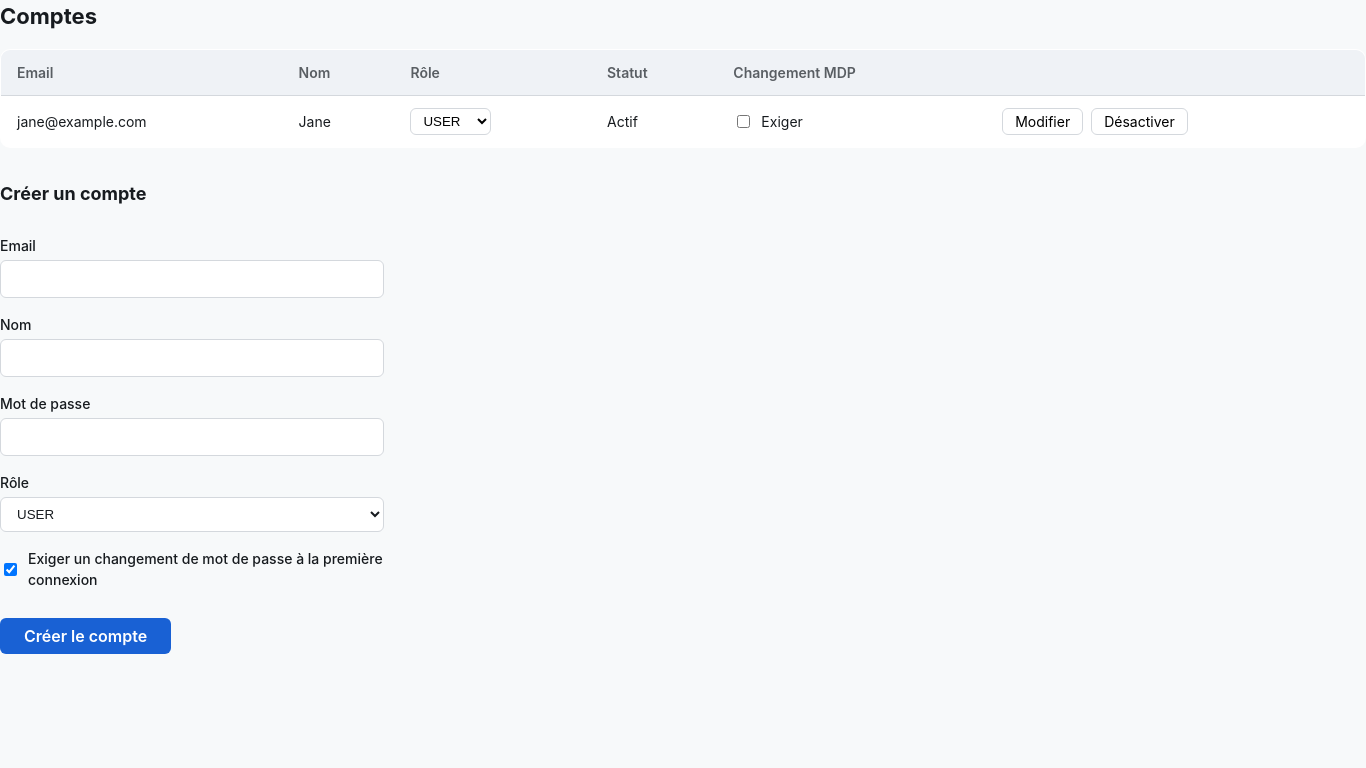
AdminUsers — edit panel › pre-fills the profile form and sends the edited name, email and role
The width and height of the screenshot is (1366, 768).
Check: the text "jane@example.com" is shown, box x1=0 y1=96 x2=283 y2=148
Click the button with aria-label "Modifier jane@example.com". click: (1043, 122)
box: x1=1002 y1=108 x2=1083 y2=135
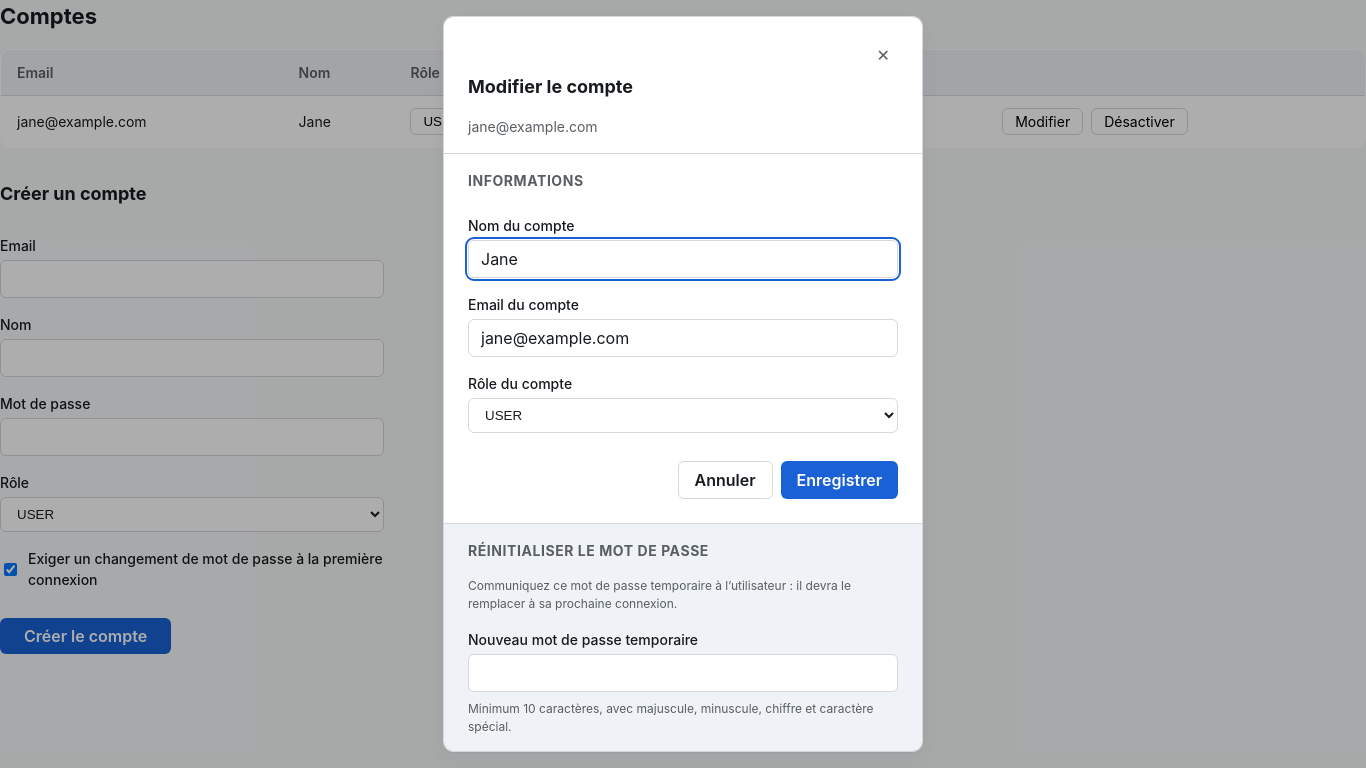
Check: the field labelled "Nom du compte" holds "Jane"
Check: the field labelled "Email du compte" holds "jane@example.com", box x1=468 y1=319 x2=898 y2=357
Replace the text in the field labelled "Nom du compte" with "Jane Doe". click: (683, 259)
box: x1=468 y1=240 x2=898 y2=278
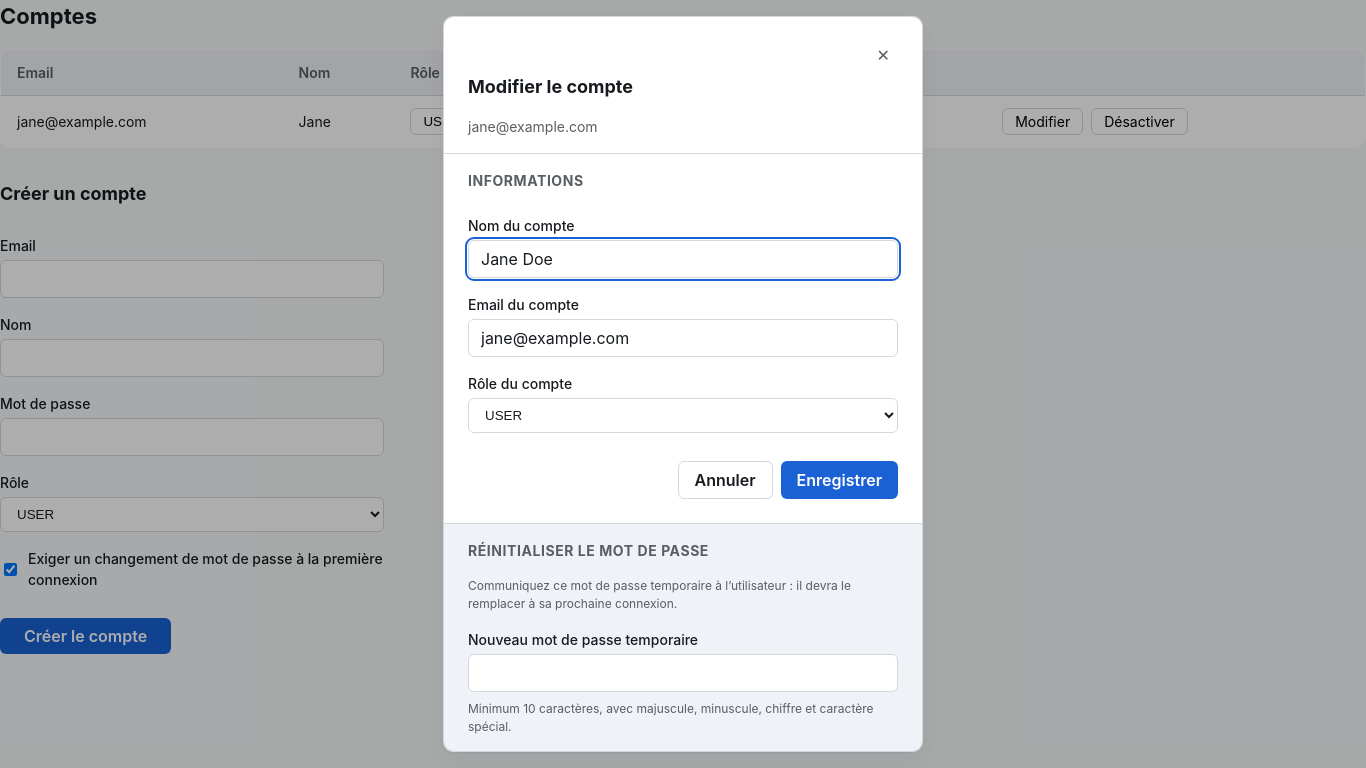
Replace the text in the field labelled "Email du compte" with "jane.doe@example.com". click: (683, 338)
box: x1=468 y1=319 x2=898 y2=357
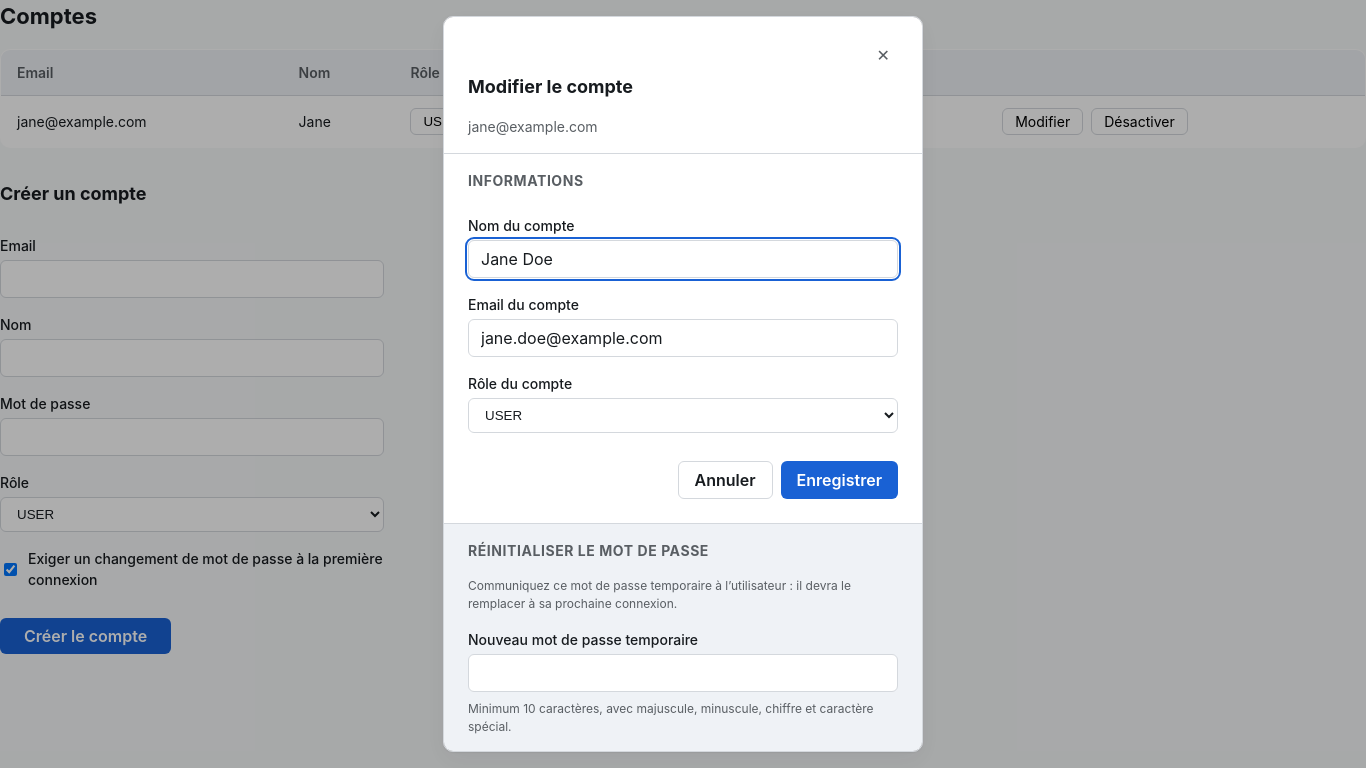
Select "ADMIN" in the dropdown labelled "Rôle du compte". click: (683, 416)
box: x1=468 y1=398 x2=898 y2=433
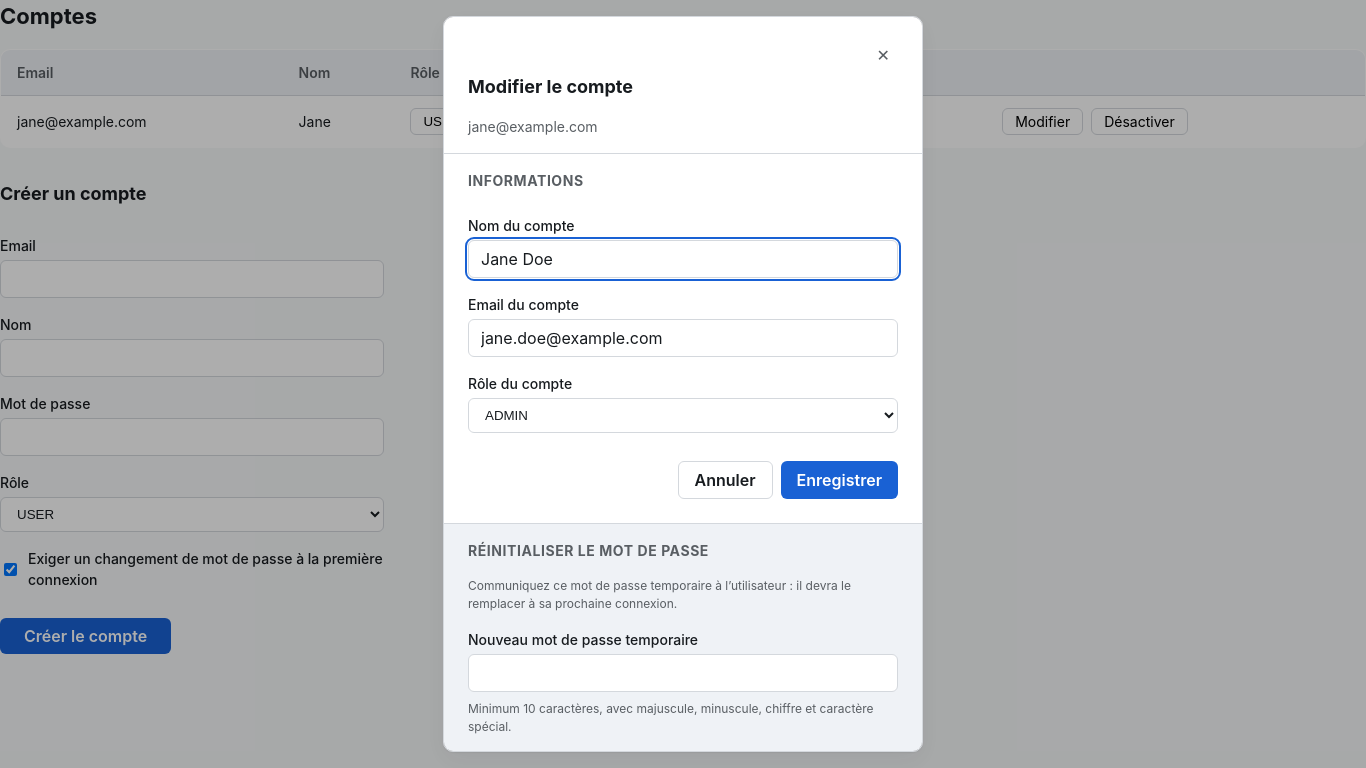
Click the button "Enregistrer". click: (839, 480)
box: x1=781 y1=461 x2=898 y2=499
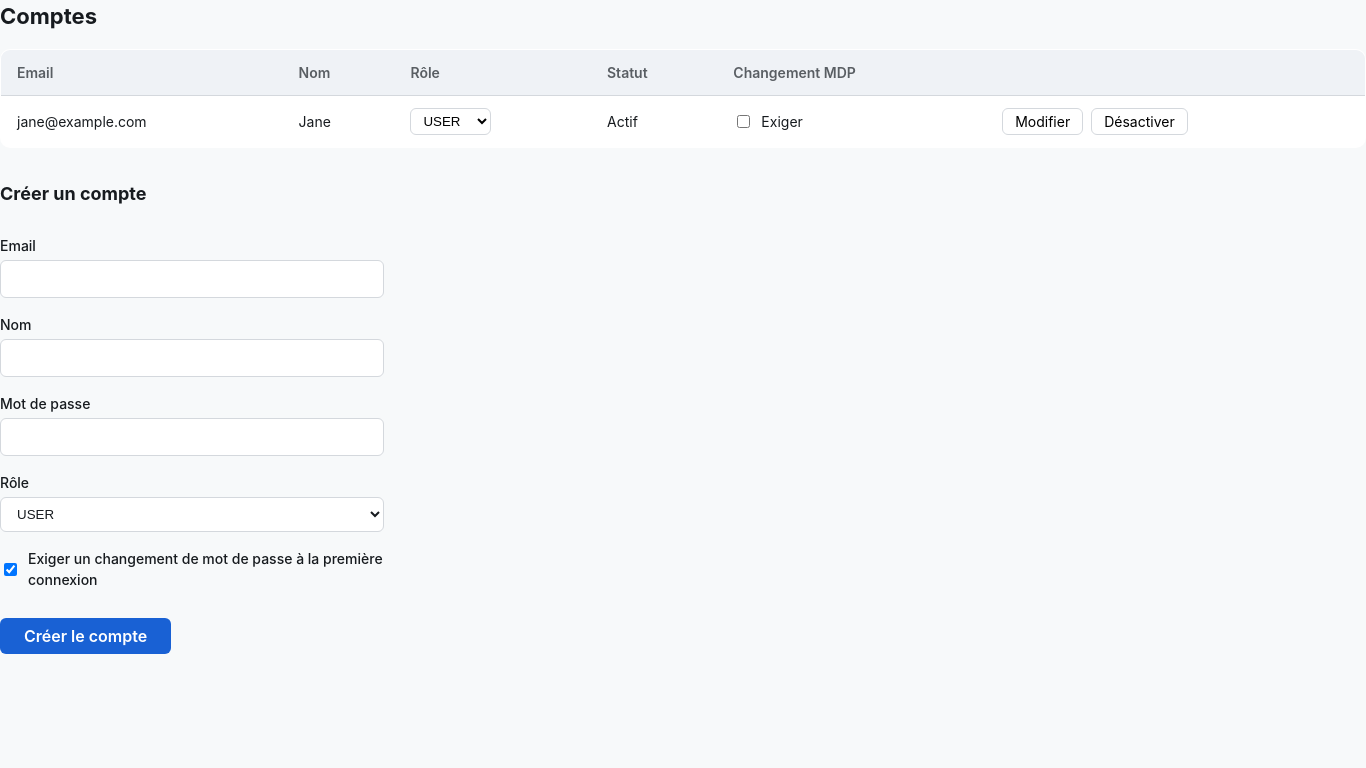
Check: the dialog is gone
